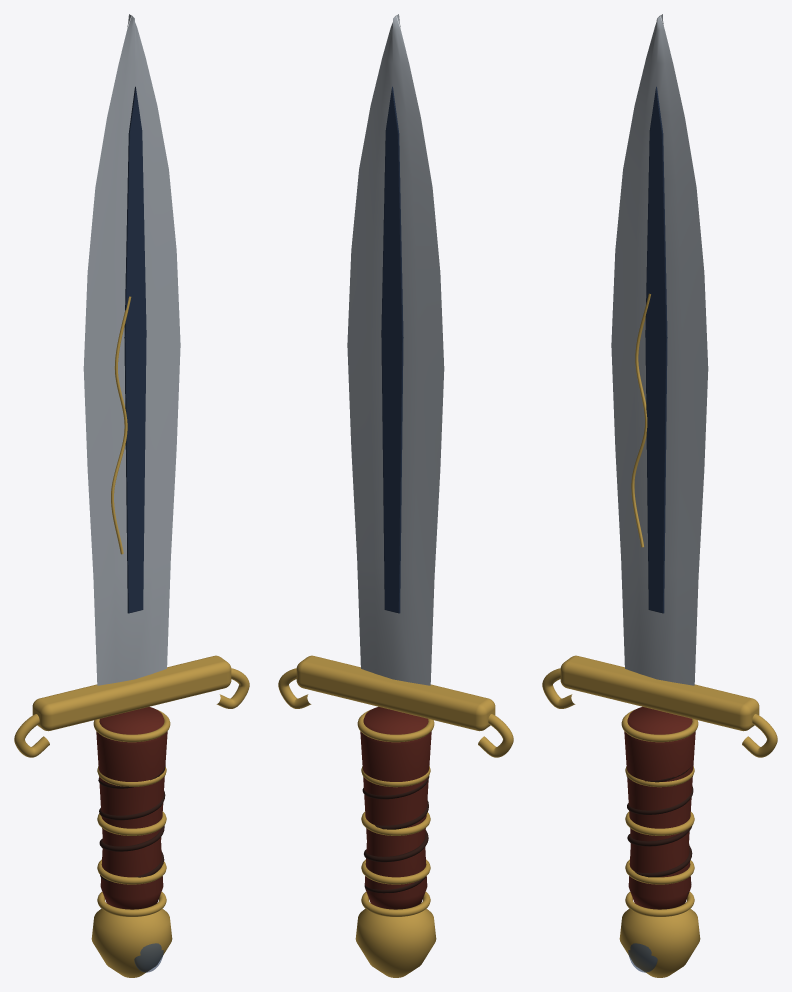
The model's file is legacy.glb.
3 renders of one model, left to right at view 1: azimuth 30°, elevation 25°; view 2: azimuth 150°, elevation 25°; view 3: azimuth 330°, elevation 25°, orthographic.
Parts seen in each view (by area): view 1: blade_core, grip_core, fuller_front, cross_guard, pommel, grip_wrap, blade_engraving, guard_scroll_left, grip_ring_1, grip_ring_5, guard_scroll_right, pommel_gem (+2 smaller); view 2: blade_core, grip_core, fuller_back, cross_guard, pommel, grip_wrap, guard_scroll_left, grip_ring_1, grip_ring_5, guard_scroll_right, grip_ring_4, grip_ring_3; view 3: blade_core, grip_core, fuller_front, cross_guard, pommel, grip_wrap, blade_engraving, guard_scroll_right, grip_ring_1, grip_ring_5, guard_scroll_left, pommel_gem (+2 smaller).
Part boxes in pixels (x1=…): blade_core: x1=83, y1=14, x2=180, y2=685; grip_core: x1=96, y1=706, x2=167, y2=909; fuller_front: x1=124, y1=86, x2=146, y2=613; cross_guard: x1=32, y1=655, x2=231, y2=731; pommel: x1=91, y1=908, x2=172, y2=977; grip_wrap: x1=98, y1=765, x2=165, y2=882; blade_engraving: x1=111, y1=296, x2=131, y2=554; guard_scroll_left: x1=14, y1=714, x2=49, y2=757; grip_ring_1: x1=93, y1=709, x2=170, y2=742; grip_ring_5: x1=97, y1=892, x2=166, y2=916; guard_scroll_right: x1=216, y1=668, x2=249, y2=708; pommel_gem: x1=134, y1=943, x2=163, y2=972; blade_core: x1=347, y1=14, x2=444, y2=685; grip_core: x1=360, y1=706, x2=431, y2=909; fuller_back: x1=381, y1=86, x2=403, y2=613; cross_guard: x1=296, y1=655, x2=495, y2=731; pommel: x1=355, y1=908, x2=436, y2=977; grip_wrap: x1=362, y1=776, x2=429, y2=893; guard_scroll_left: x1=478, y1=714, x2=513, y2=757; grip_ring_1: x1=357, y1=709, x2=434, y2=742; grip_ring_5: x1=361, y1=892, x2=430, y2=916; guard_scroll_right: x1=278, y1=668, x2=311, y2=708; grip_ring_4: x1=361, y1=859, x2=430, y2=884; grip_ring_3: x1=361, y1=811, x2=430, y2=835; blade_core: x1=611, y1=14, x2=708, y2=685; grip_core: x1=624, y1=706, x2=695, y2=909; fuller_front: x1=645, y1=86, x2=667, y2=613; cross_guard: x1=560, y1=655, x2=759, y2=731; pommel: x1=619, y1=908, x2=700, y2=977; grip_wrap: x1=626, y1=767, x2=693, y2=894; blade_engraving: x1=631, y1=293, x2=650, y2=547; guard_scroll_right: x1=742, y1=714, x2=777, y2=757; grip_ring_1: x1=621, y1=709, x2=698, y2=742; grip_ring_5: x1=625, y1=892, x2=694, y2=916; guard_scroll_left: x1=542, y1=668, x2=575, y2=708; pommel_gem: x1=628, y1=943, x2=657, y2=972.
Bounding box in the file's own units: 0.1208 × 0.473 × 0.0361.
